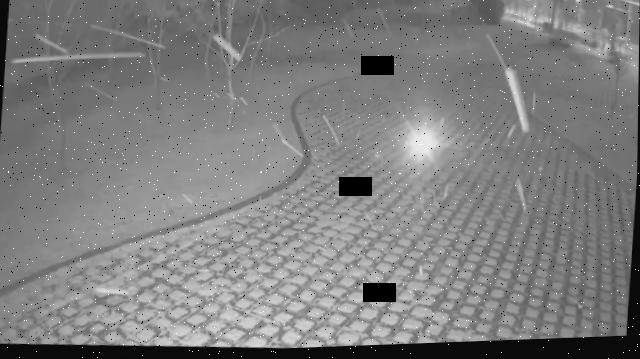fire: (404, 129, 438, 155)
